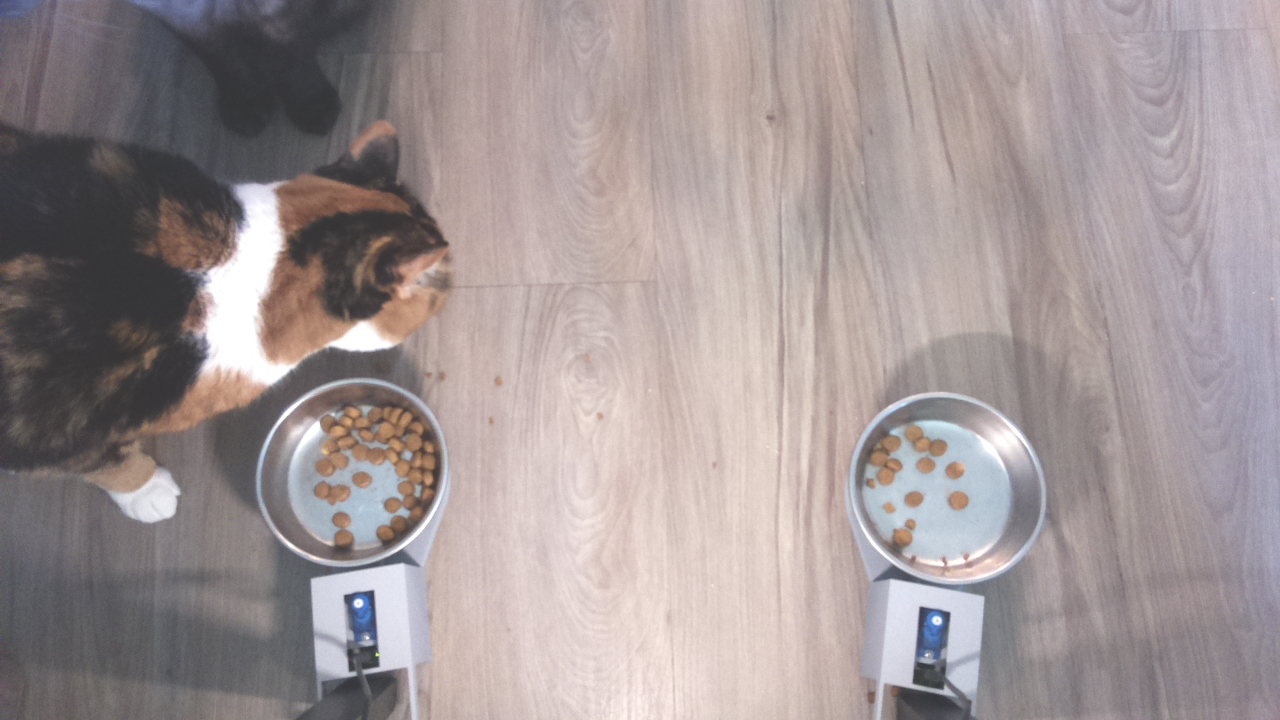bella: (244, 112, 458, 368)
open_bowl: (848, 386, 1058, 597), (247, 375, 470, 562)
